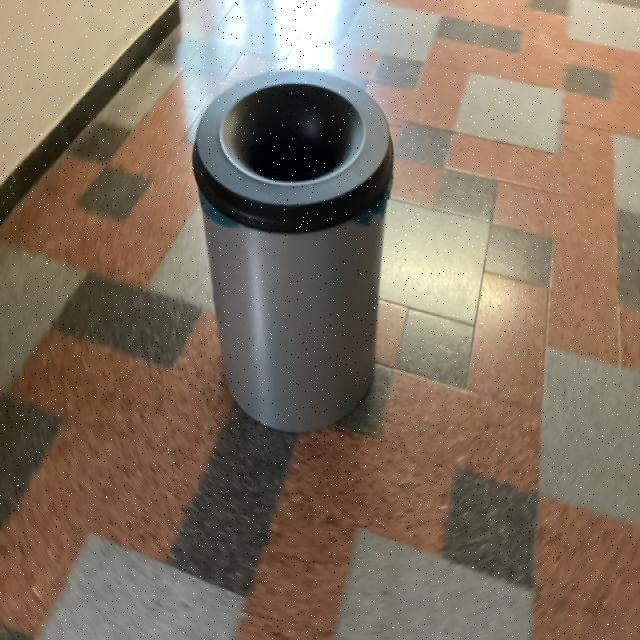garbage container: (172, 54, 400, 446)
